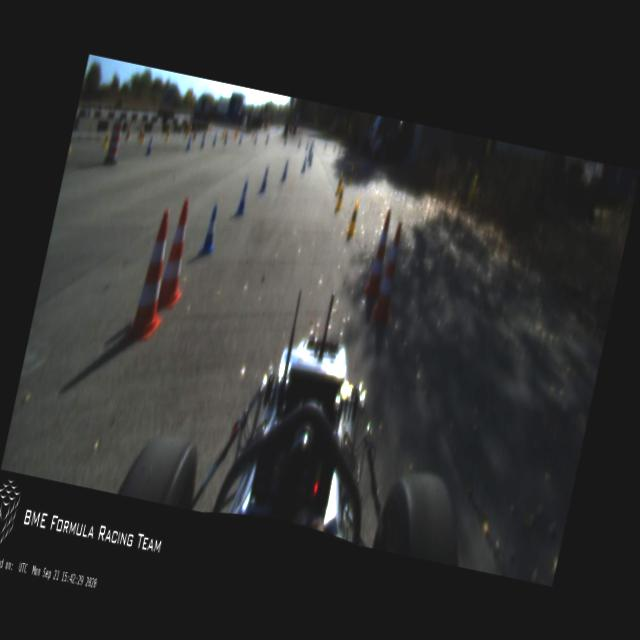blue_cone: (198, 204, 222, 258), (235, 180, 250, 218), (258, 166, 270, 193), (280, 160, 290, 182), (144, 136, 154, 158), (306, 152, 314, 168), (185, 135, 192, 151), (301, 156, 307, 173), (200, 131, 206, 147), (264, 132, 270, 146), (223, 130, 228, 145), (304, 140, 310, 152), (212, 132, 218, 144), (308, 142, 313, 156), (238, 131, 242, 145), (297, 136, 301, 148), (284, 134, 288, 146), (254, 132, 258, 144)
large_orange_cone: (125, 208, 184, 349), (155, 196, 202, 314), (368, 218, 412, 326), (361, 207, 396, 300)
yellow_cone: (345, 198, 361, 236), (333, 181, 346, 213), (334, 170, 344, 195), (101, 128, 111, 150), (347, 165, 354, 184), (138, 130, 146, 145), (164, 128, 170, 142), (232, 126, 238, 139), (192, 128, 198, 140), (207, 121, 212, 133), (221, 130, 226, 140), (332, 142, 336, 154), (337, 146, 341, 157), (251, 130, 255, 140), (324, 142, 326, 150)
